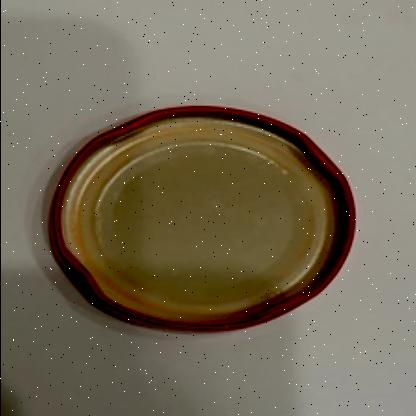Can: (49, 105, 357, 335)
